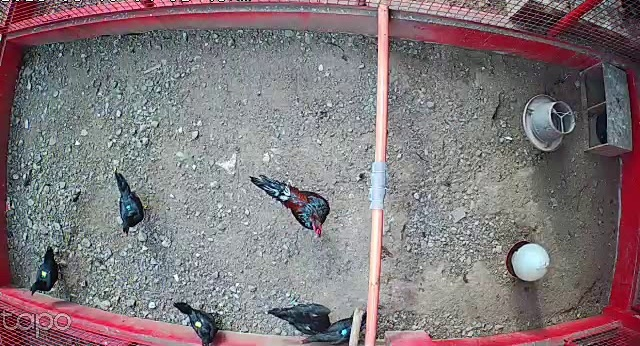Chicken: (112, 167, 154, 237), (262, 296, 332, 337), (173, 296, 228, 346), (303, 309, 370, 346), (30, 244, 69, 296)
Rooster: (247, 173, 332, 239)
Saddle_Color_Blue: (340, 328, 347, 335)
Saddle_Color_Green: (127, 205, 131, 210)
Saddle_Color_Yellow: (194, 318, 202, 328)
Saddle_Color_YellowGreen: (39, 270, 48, 281)
